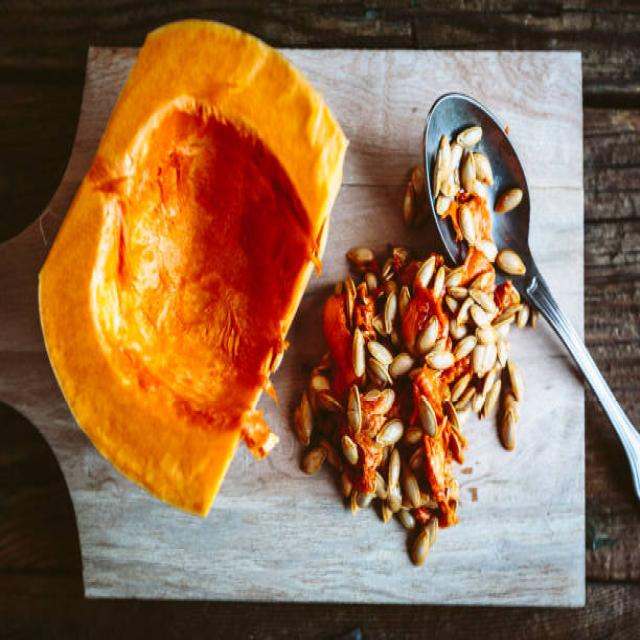pumpkin: (39, 21, 348, 515)
